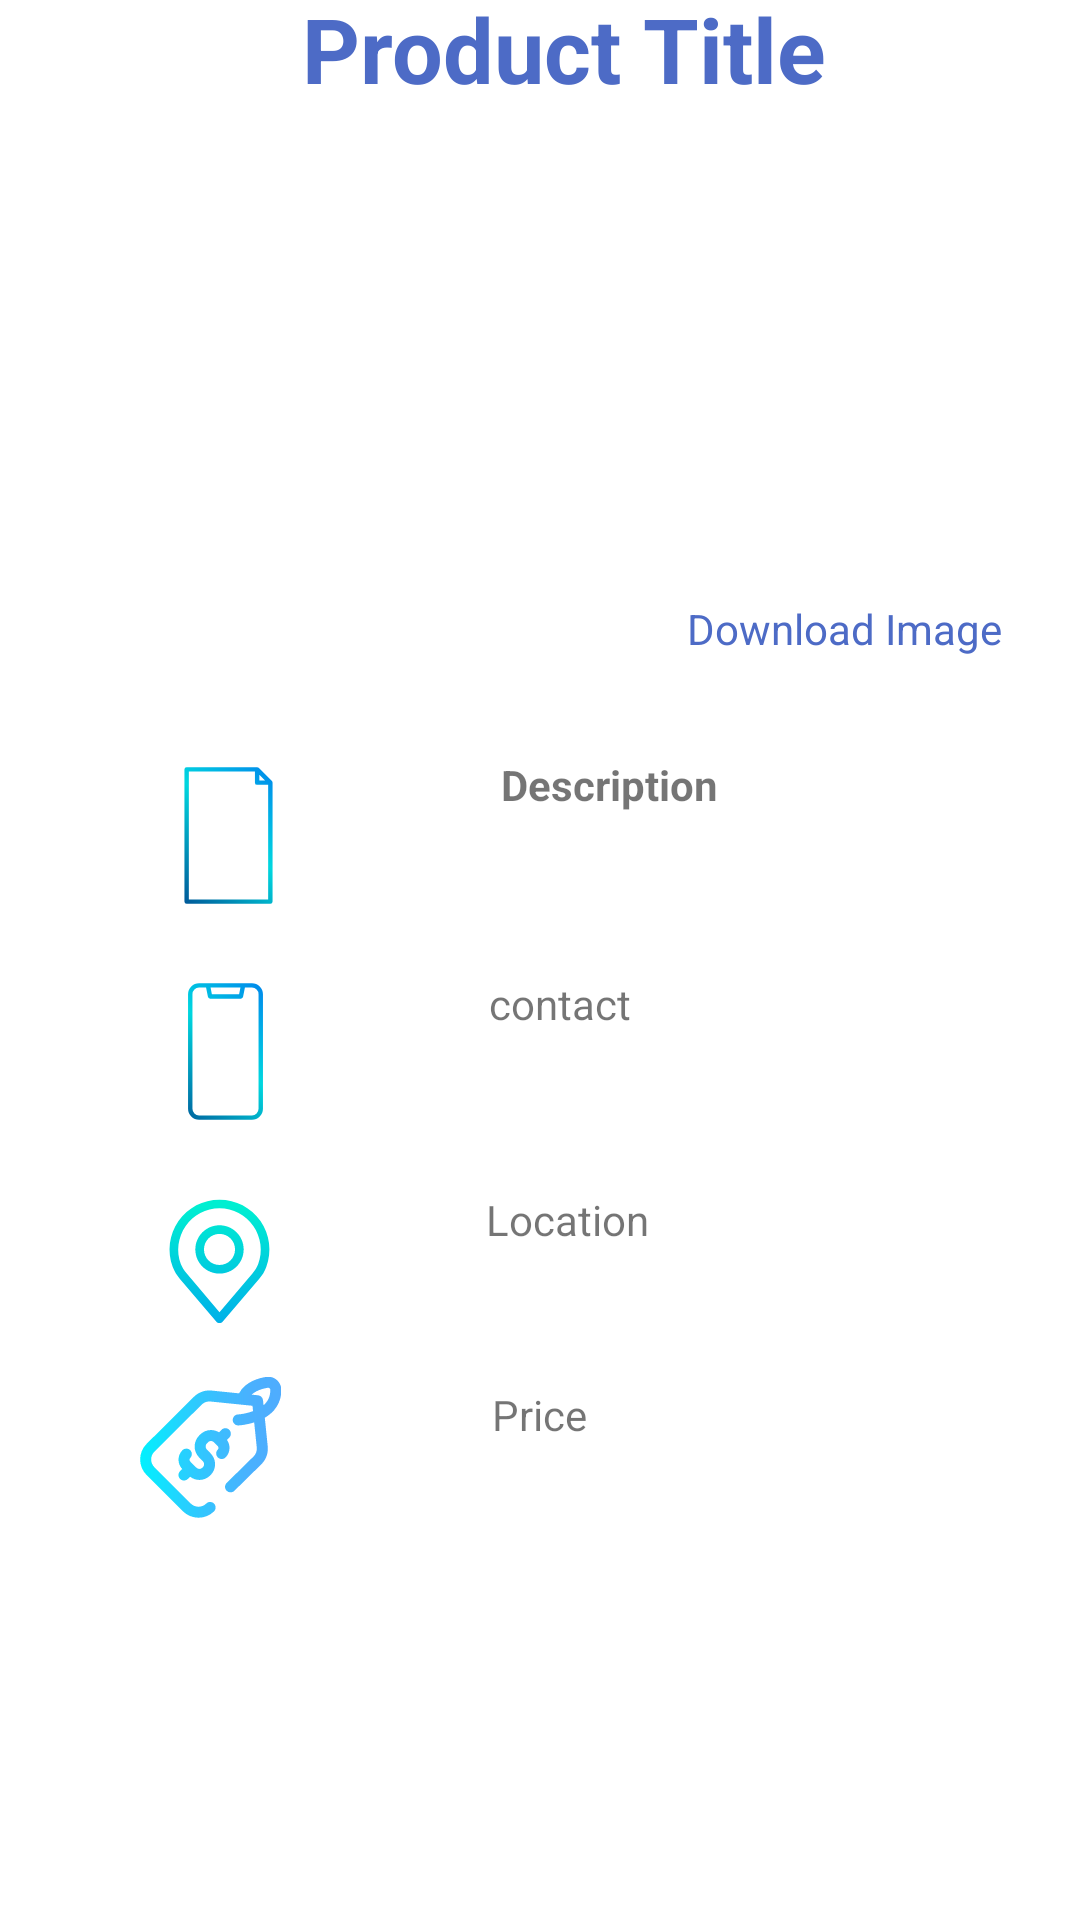

Where to tap for icons on this 1080w x 1920h app screen, as (x=x, y=y):
pin: (x=219, y=1261)
price tag: (x=210, y=1447)
smartphone: (x=225, y=1051)
